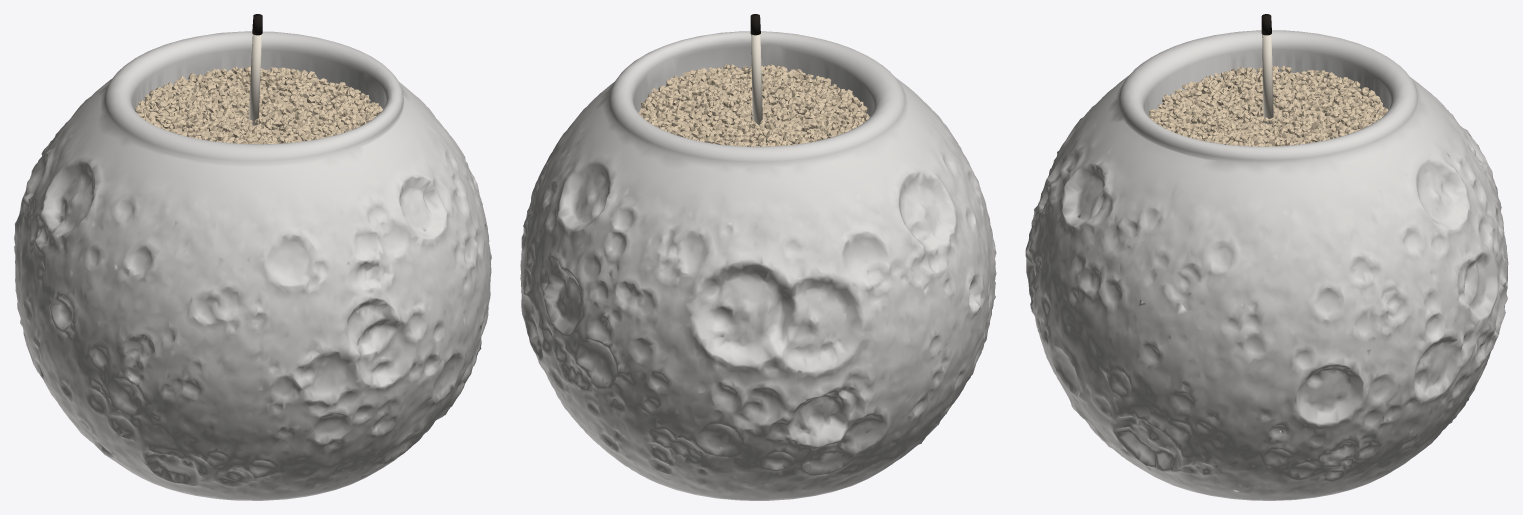
Rendered from cratera.glb.
3 renders of one model, left to right at view 1: azimuth 30°, elevation 25°; view 2: azimuth 150°, elevation 25°; view 3: azimuth 270°, elevation 25°, orthographic.
Visible parts, largest first — view 1: Cratera, Areia, Pavio0; view 2: Cratera, Areia, Pavio0; view 3: Cratera, Areia, Pavio0.
Boxes of the visible parts, <box> form: Cratera: <box>14,31,491,500</box>; Areia: <box>135,66,382,144</box>; Pavio0: <box>248,34,261,125</box>; Cratera: <box>520,31,996,500</box>; Areia: <box>638,64,869,146</box>; Pavio0: <box>751,34,762,125</box>; Cratera: <box>1025,30,1508,500</box>; Areia: <box>1148,65,1388,146</box>; Pavio0: <box>1262,34,1273,124</box>.
Bounding box in the file's own units: 0.1008 × 0.0988 × 0.1015.
